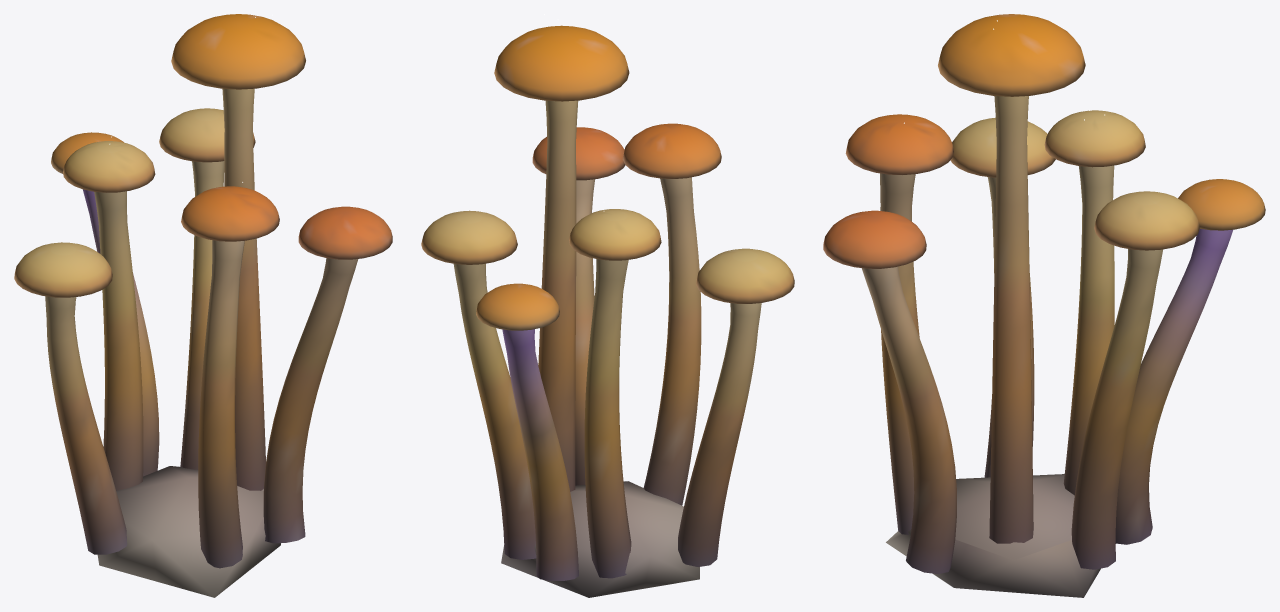
Rendered from enoki_seyrek.glb.
The picture shows the model from 3 angles, left to right: view 1: azimuth 30°, elevation 25°; view 2: azimuth 150°, elevation 25°; view 3: azimuth 270°, elevation 25°; orthographic projection. The views are drawn at different scales.
Parts seen in each view (by area): view 1: enoki_seyrek_LOD0; view 2: enoki_seyrek_LOD0; view 3: enoki_seyrek_LOD0.
Part boxes in pixels (x1,y1,x2,y2): enoki_seyrek_LOD0: [14, 14, 392, 597]; enoki_seyrek_LOD0: [421, 25, 794, 597]; enoki_seyrek_LOD0: [823, 14, 1265, 597].
Size of what is drawn, in the model's own units: 0.3597 by 0.6147 by 0.4092.
